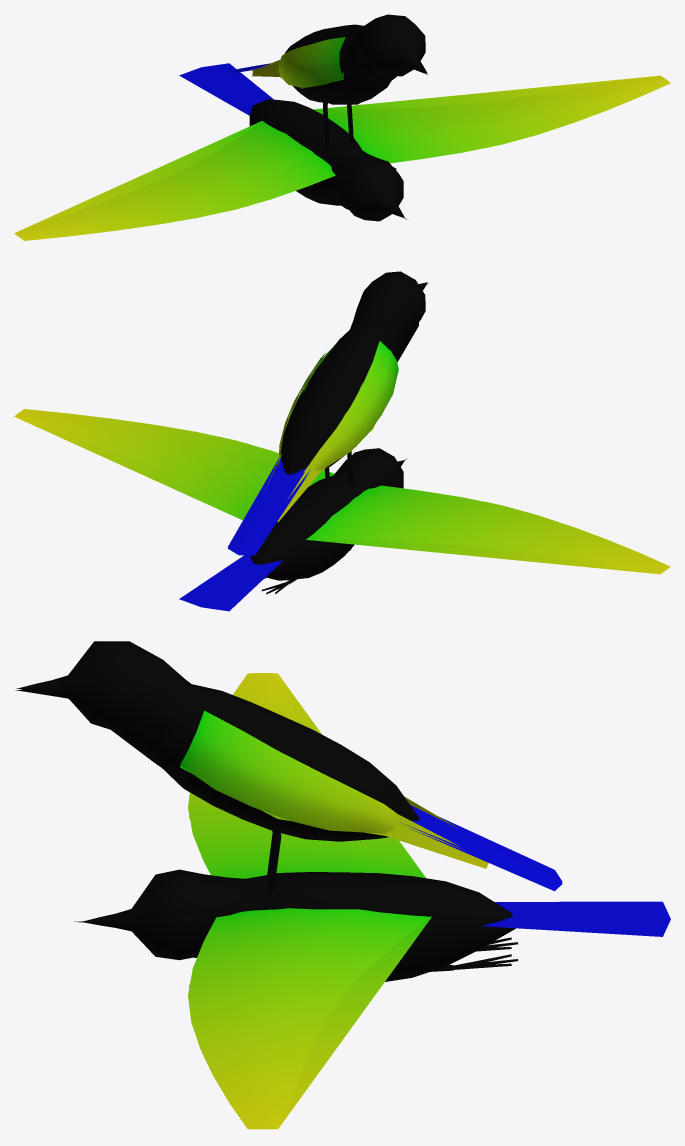
File: wheatear.glb
The picture shows the model from 3 angles, top to bottom: view 1: azimuth 30°, elevation 25°; view 2: azimuth 150°, elevation 25°; view 3: azimuth 270°, elevation 25°; orthographic projection. The views are drawn at different scales.
Visible parts, largest first — view 1: fly0, stand0, fly2, stand1, fly1; view 2: fly0, stand0, fly2, stand1, fly1; view 3: fly0, stand0, fly2, stand1, fly1.
Part boxes in pixels (box(x1,y1,x2,y2)): fly0: box(14, 63, 670, 240); stand0: box(228, 14, 427, 196); fly2: box(16, 75, 658, 232); stand1: box(228, 36, 427, 146); fly1: box(17, 66, 544, 239); fly0: box(14, 409, 670, 611); stand0: box(228, 271, 427, 553); fly2: box(16, 417, 664, 574); stand1: box(228, 283, 427, 555); fly1: box(109, 422, 668, 608); fly0: box(83, 673, 670, 1129); stand0: box(16, 641, 562, 894); fly2: box(74, 674, 431, 1129); stand1: box(15, 683, 562, 893); fly1: box(82, 815, 670, 1129).
Bounding box in the file's own units: 0.27 × 0.0925 × 0.1644.
